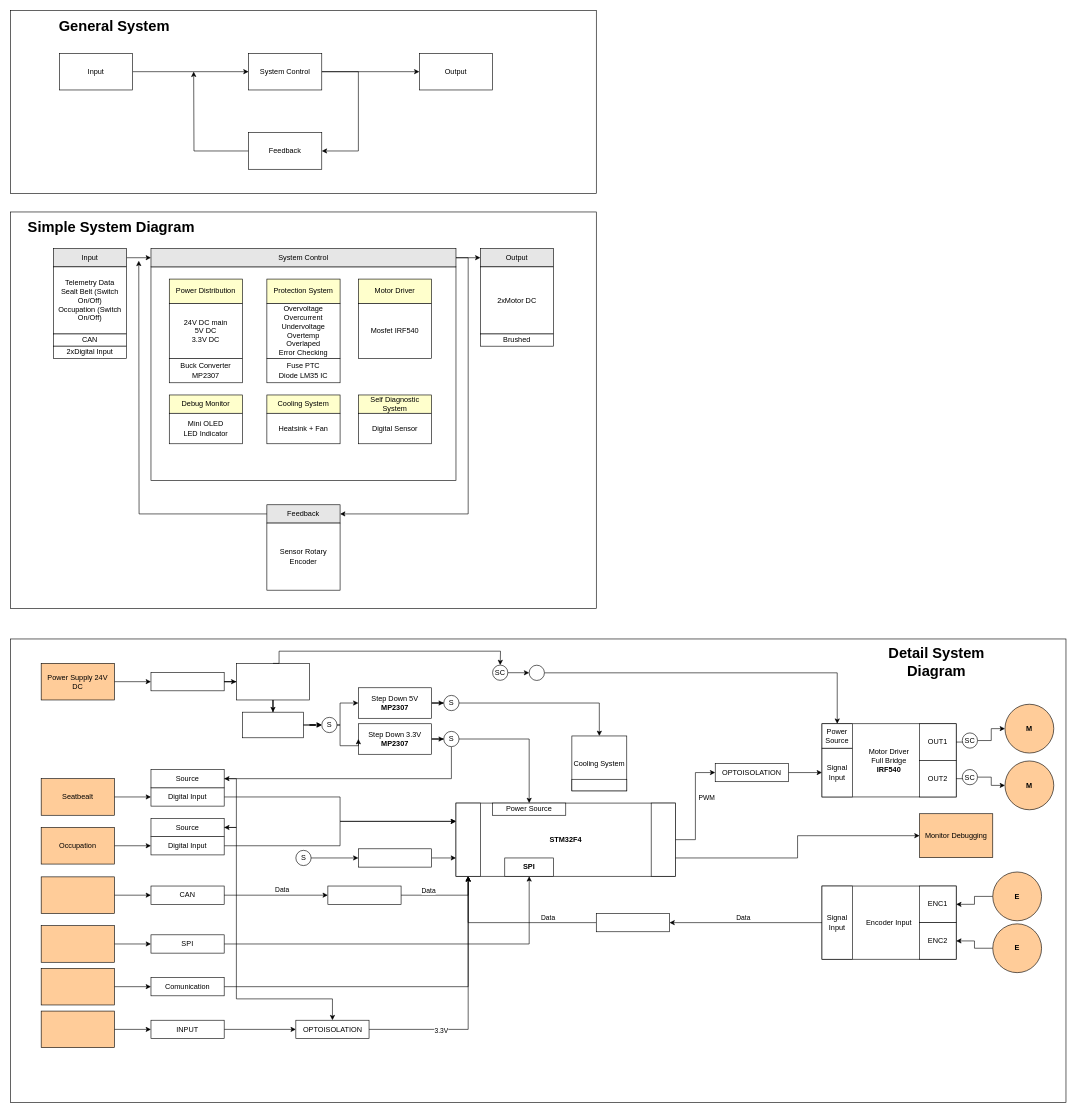
Some shapes in this 1077 by 1113 pixel diagram are drawn without their labels. Here are the shapes that lost their labels. From the top down, the centre of each, then its label:
the point at 187,681: Main Source 24V DC
the point at 273,681: Protection System Fuse PTC Reverse Polarity
the point at 536,672: SV
the point at 272,725: DC/DC Co nverter
the point at 599,785: Temp Sensor
the point at 395,857: Diagnostic Data
the point at 467,839: Input (I/O)
the point at 663,839: Output (I/O)
the point at 77,894: Telemetry Data
the point at 364,894: Signal Condition
the point at 632,922: MODBUS/UART
the point at 77,943: Programer Interface (SPI)
the point at 77,986: Communicatin Interface (I2C, UART)
the point at 77,1029: IO
